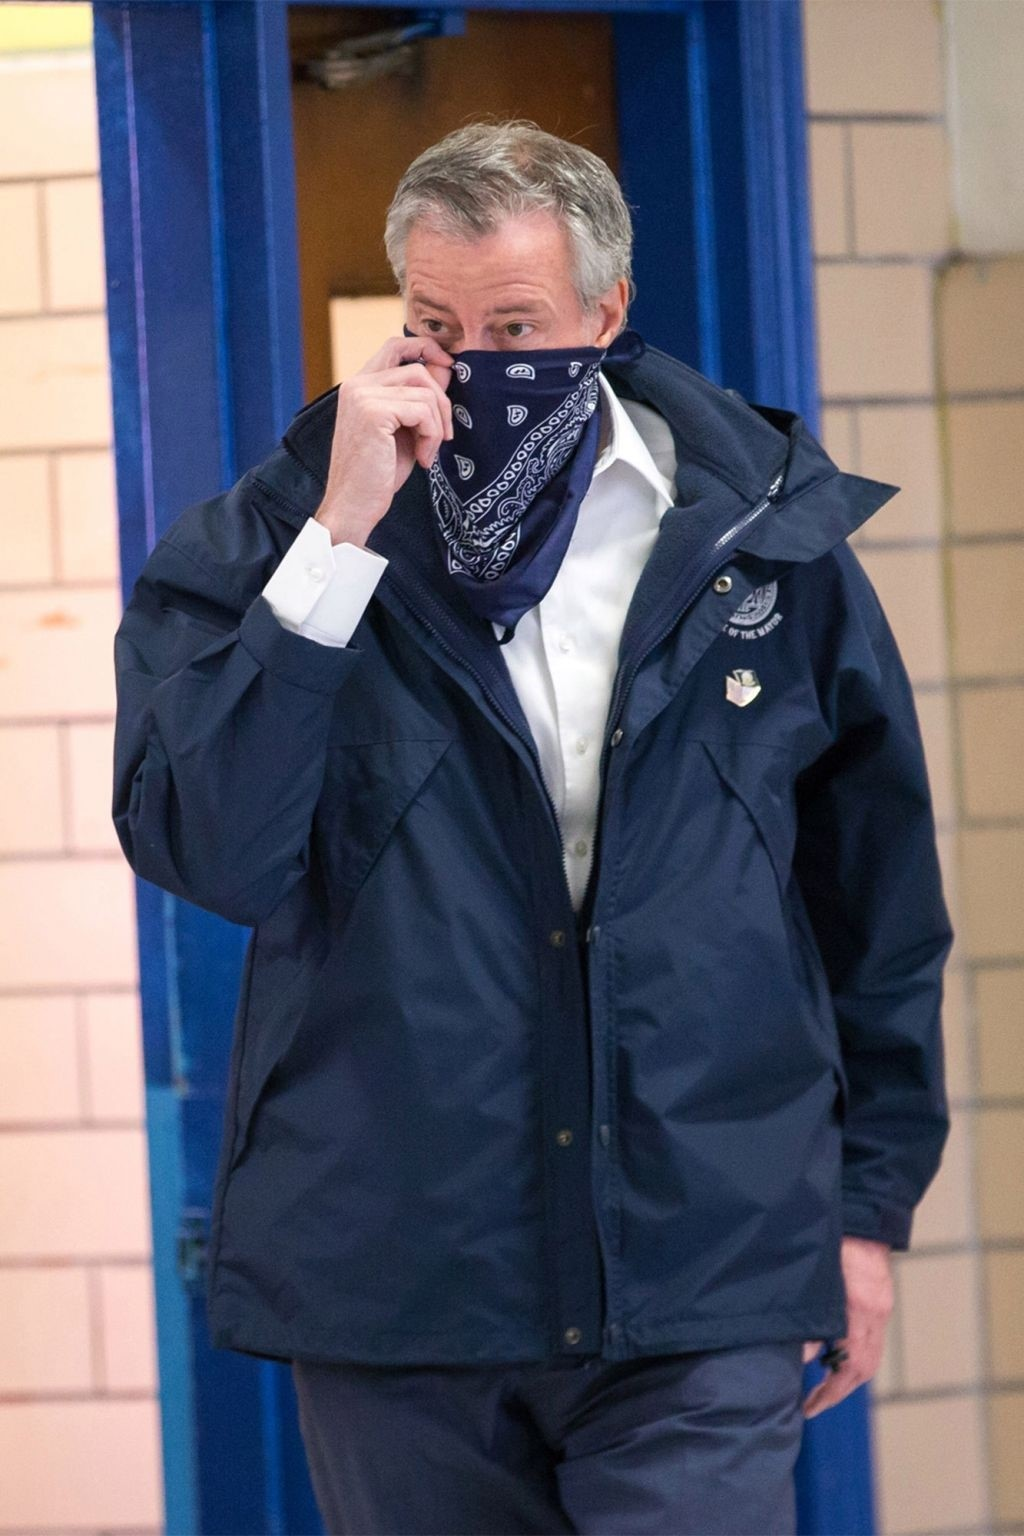face_with_mask: (386, 144, 634, 471)
